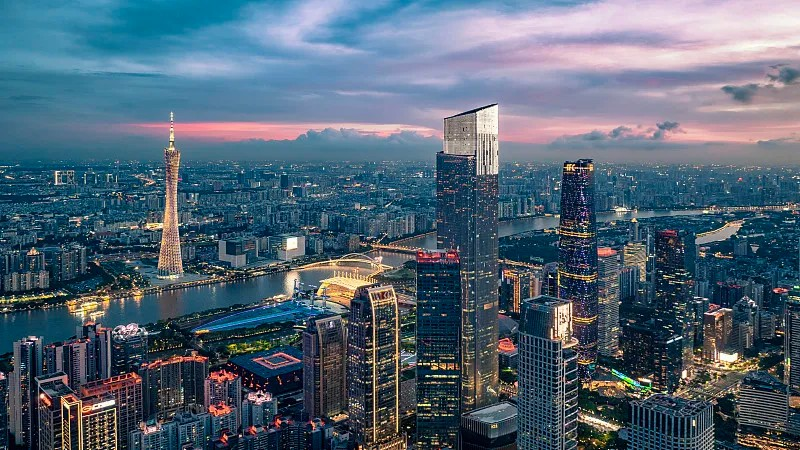Canton: (155, 108, 185, 279)
